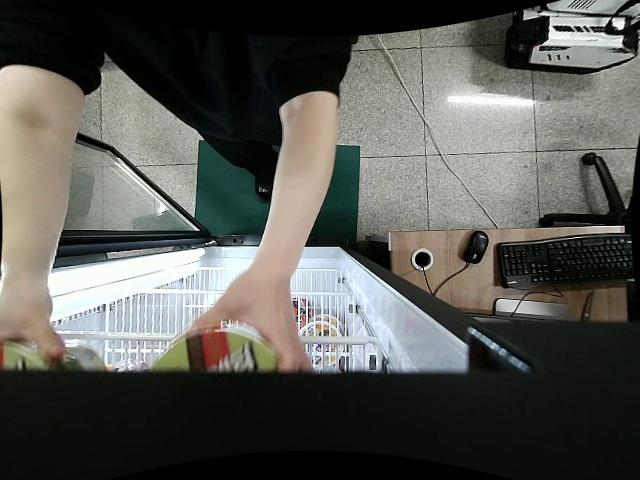00_hand: (175, 279, 314, 374), (0, 279, 65, 358)
03_chapagetti_L: (147, 327, 279, 374), (0, 334, 109, 376)
